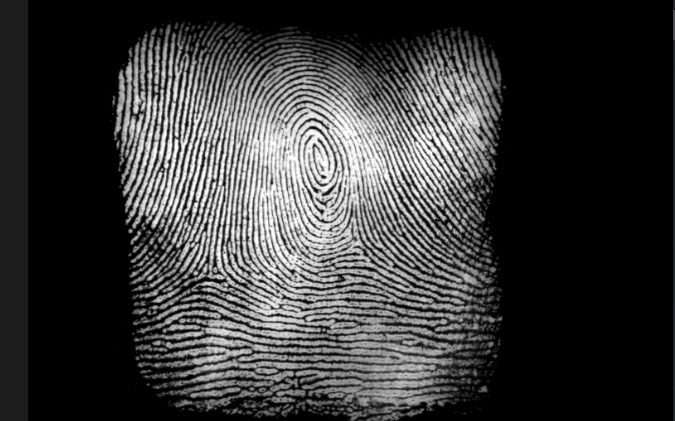deltas: (182, 241, 240, 299), (333, 220, 380, 266)
nucleo: (286, 127, 354, 199)
